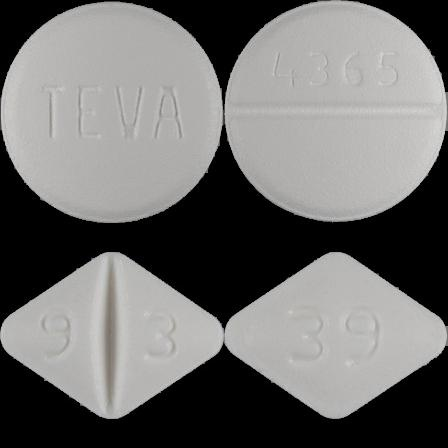76237-261: (0, 0, 224, 224)
